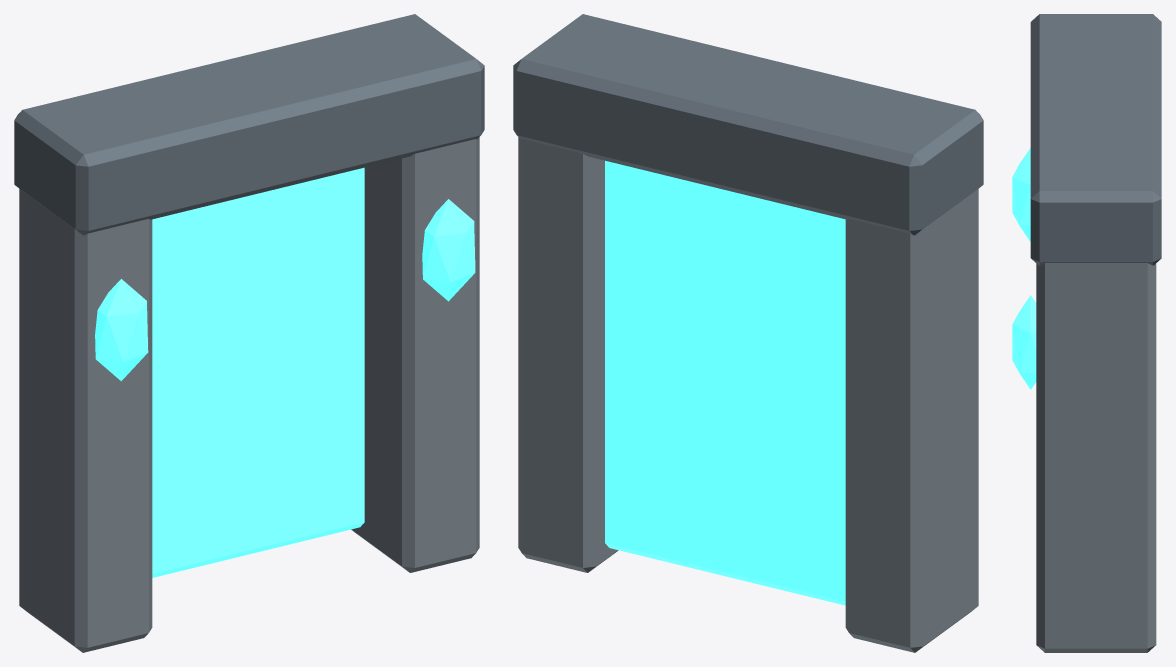
Rendered from exit.glb.
3 views of the same model, side by side, from view 1: azimuth 30°, elevation 25°; view 2: azimuth 150°, elevation 25°; view 3: azimuth 270°, elevation 25° (orthographic). The views are drawn at different scales.
Visible parts, largest first — view 1: exit; view 2: exit; view 3: exit.
Part boxes in pixels (x1,y1,x2,y2): exit: (14, 14, 484, 652); exit: (513, 14, 983, 652); exit: (1012, 14, 1161, 652).
Size of the model in its own units: 2 by 2.34 by 0.6851.
